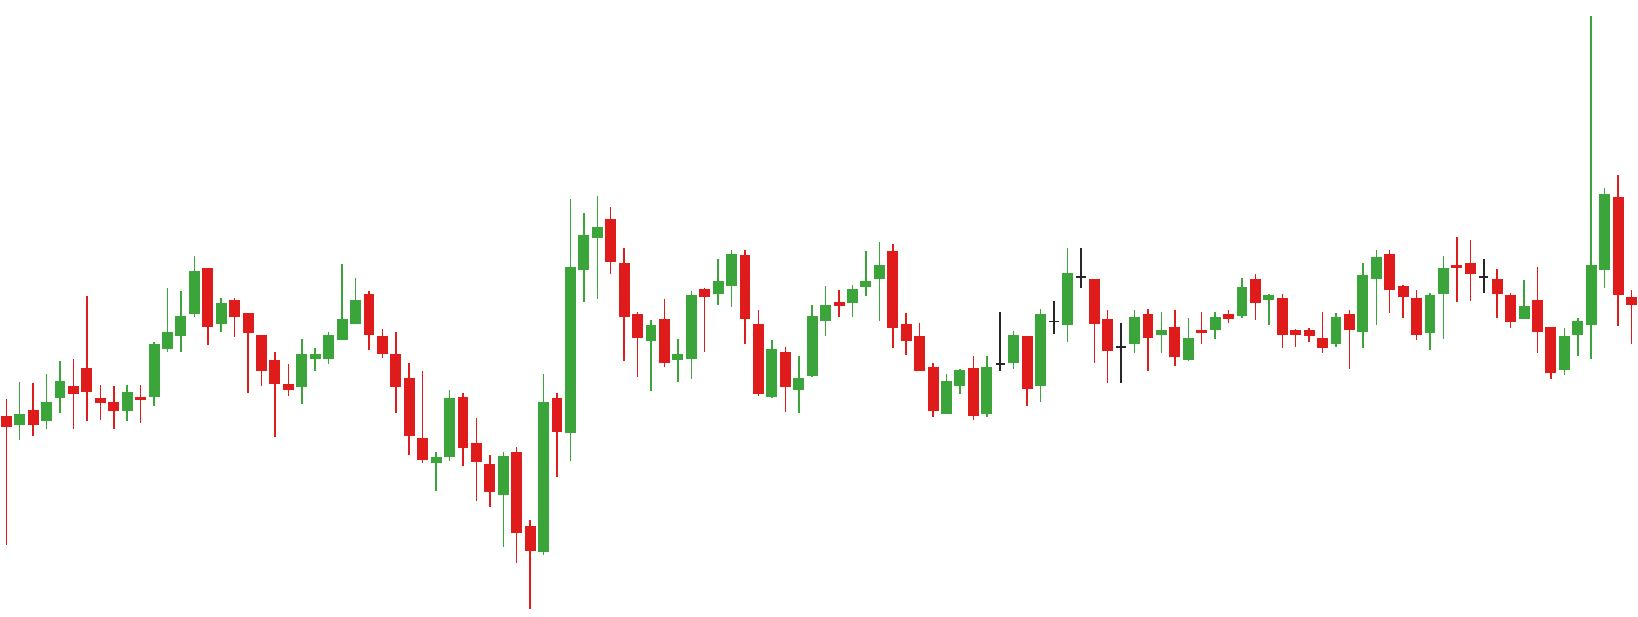buy: (1342, 276, 1571, 376), (792, 306, 952, 419)
sell: (84, 262, 215, 375)
